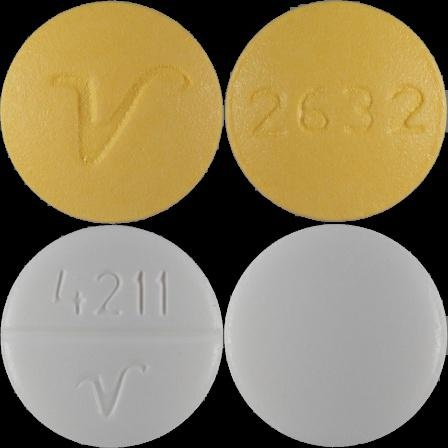68788-9069: (0, 0, 224, 224)
